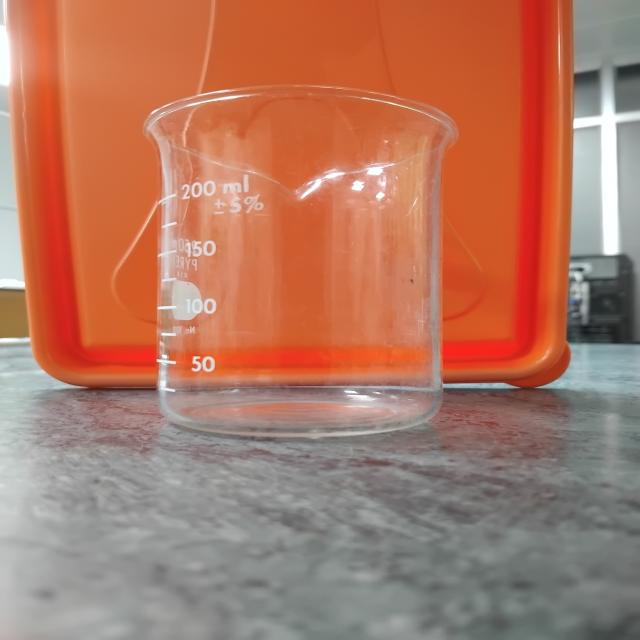Beaker: (96, 57, 484, 466)
